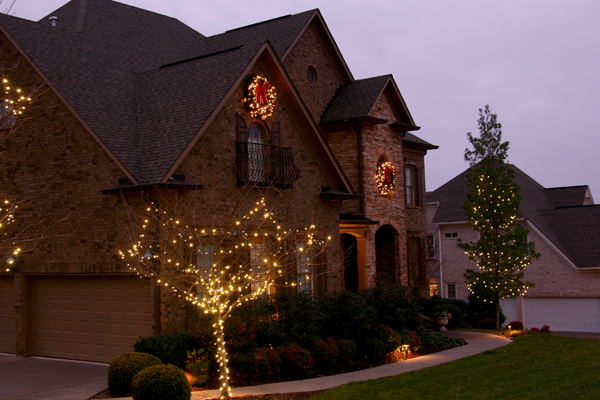bush: (132, 288, 468, 376), (97, 348, 194, 400)
tree: (107, 187, 336, 394), (456, 104, 538, 338)
